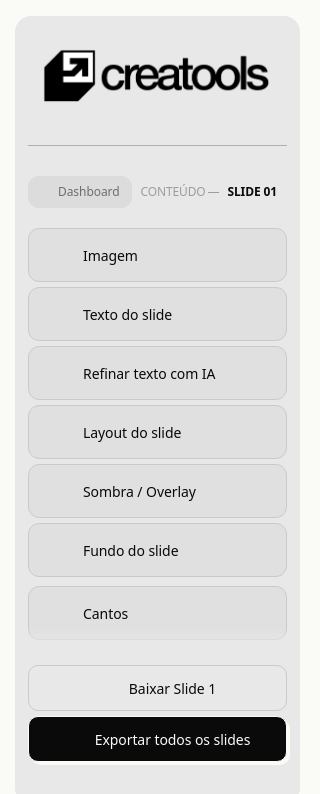
1 — o upload órfão sai da aba "Fundo do Slide" do Editorial › na CAPA o upload saiu daqui e foi para o painel "Imagem"
This screenshot has width=320, height=794.
Click the button "Fundo do slide": point(158, 550) [29,524,286,576]
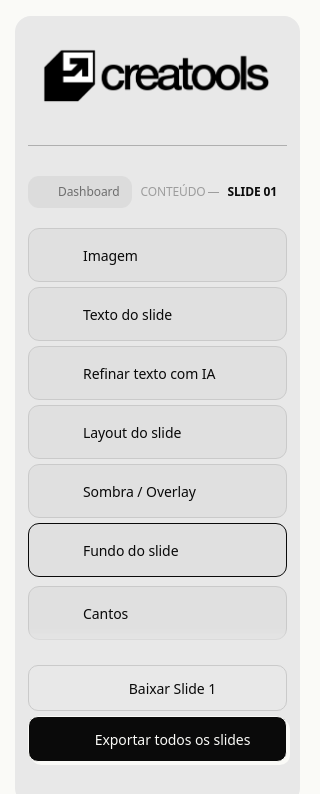
Expected: the text "arraste uma imagem de fundo" is not shown
Click the button "Imagem": point(158, 255) [29,229,286,281]
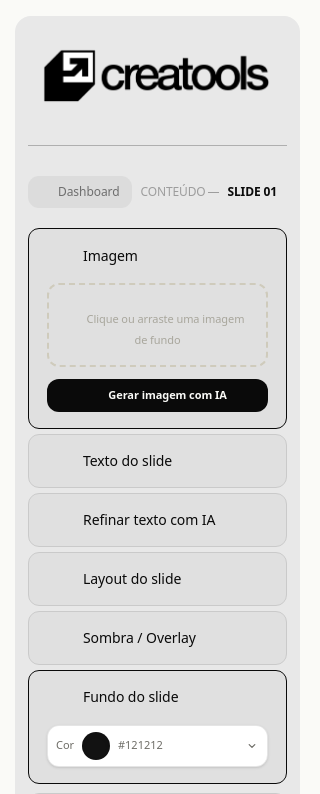
Expected: the text "Clique ou arraste uma imagem de fundo" is shown, [87,311,244,347]
